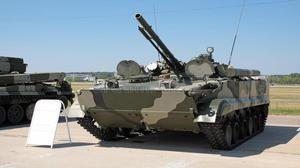bmp: (77, 44, 273, 151)
